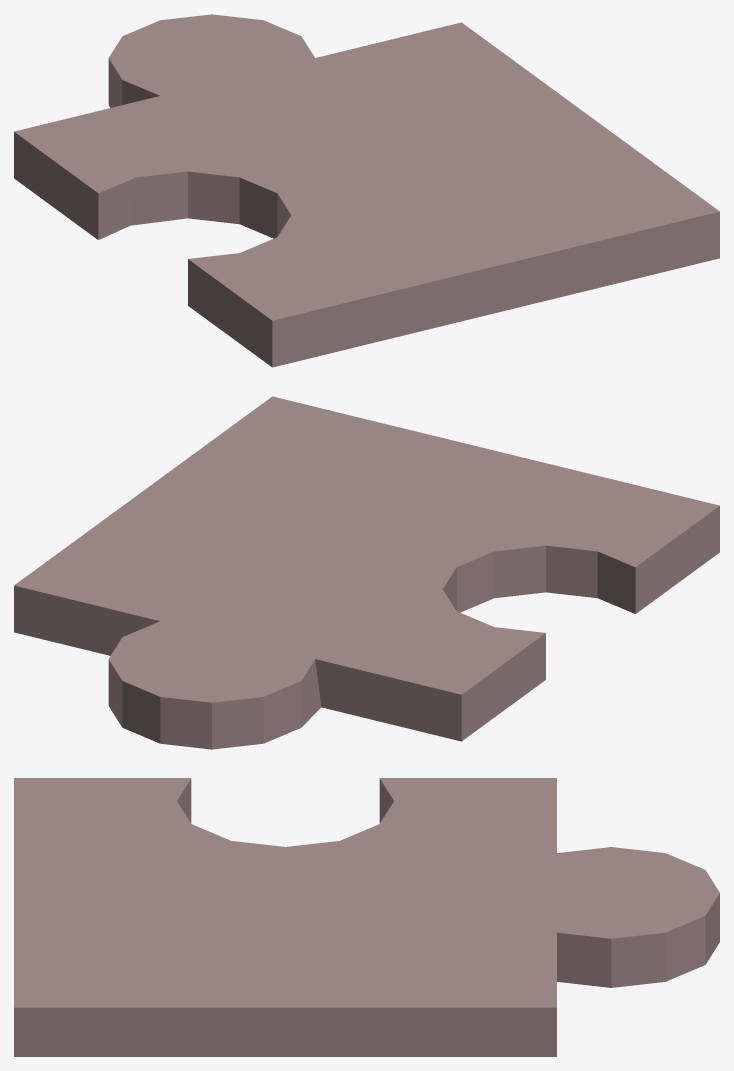
Rendered from Puzzle_03_MOD.fbx.
3 views of the same model, one above another, from view 1: azimuth 30°, elevation 25°; view 2: azimuth 150°, elevation 25°; view 3: azimuth 270°, elevation 25° (orthographic). The views are drawn at different scales.
Visible parts, largest first — view 1: polySurface41; view 2: polySurface41; view 3: polySurface41.
Part boxes in pixels (x1,y1,x2,y2): polySurface41: (14,14,719,367); polySurface41: (14,396,719,749); polySurface41: (14,778,719,1056).
Size of the model in its own units: 5 by 0.5 by 6.5.
